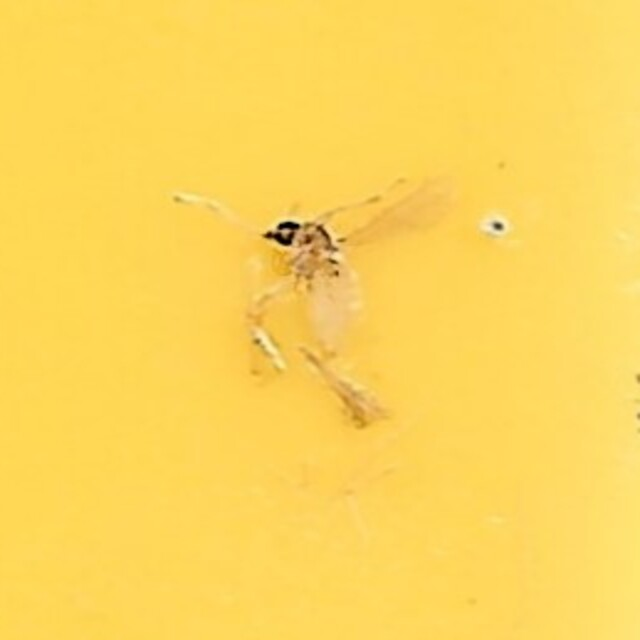Nematocera: (247, 200, 393, 440)
